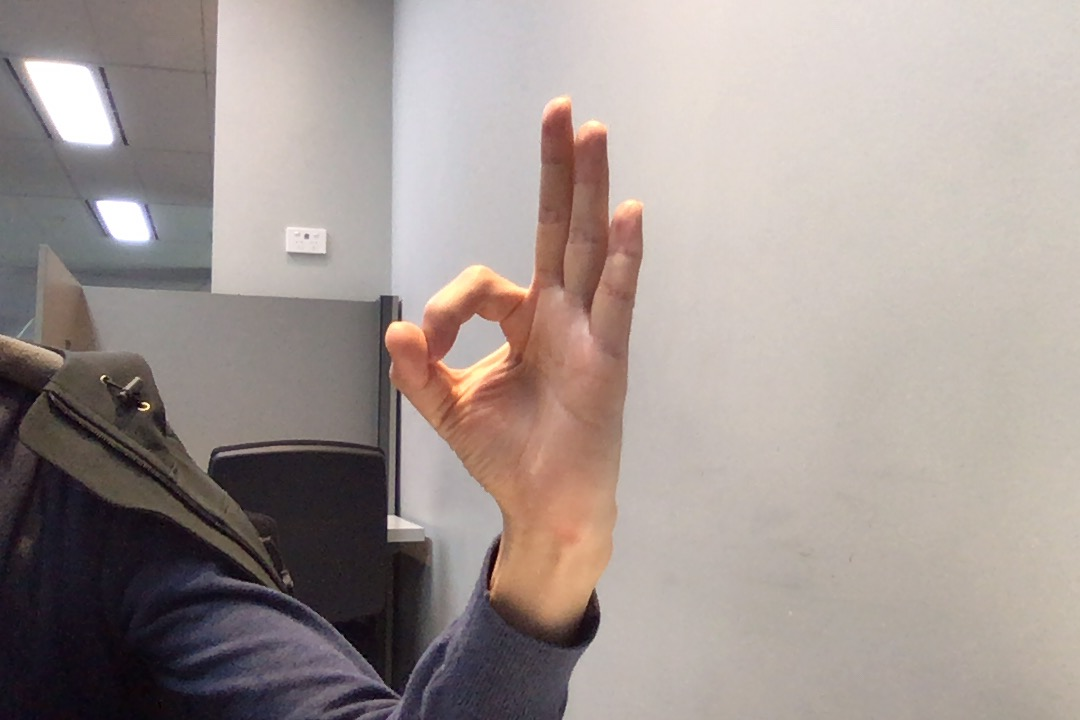oksign: (376, 85, 659, 523)
